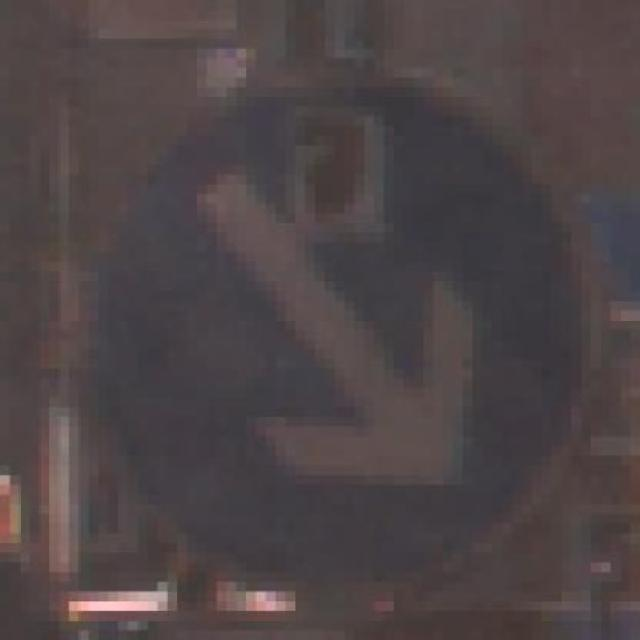Keep-Right: (78, 87, 591, 582)
